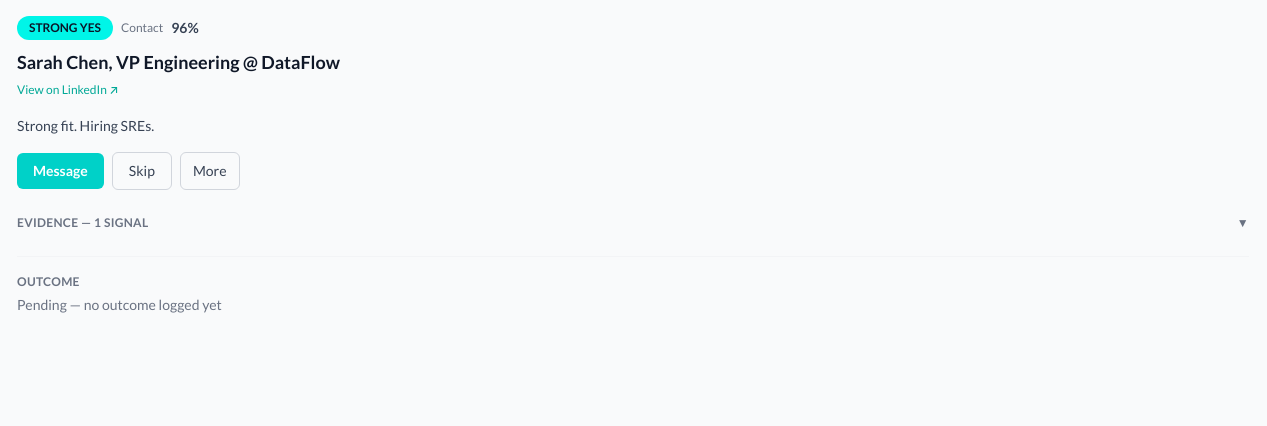
Test: DecisionWorkspacePane › Evidence is collapsed by default and expands on click
Click the button "Evidence — 1 signal ▼": (48, 222) [17, 214, 1249, 232]
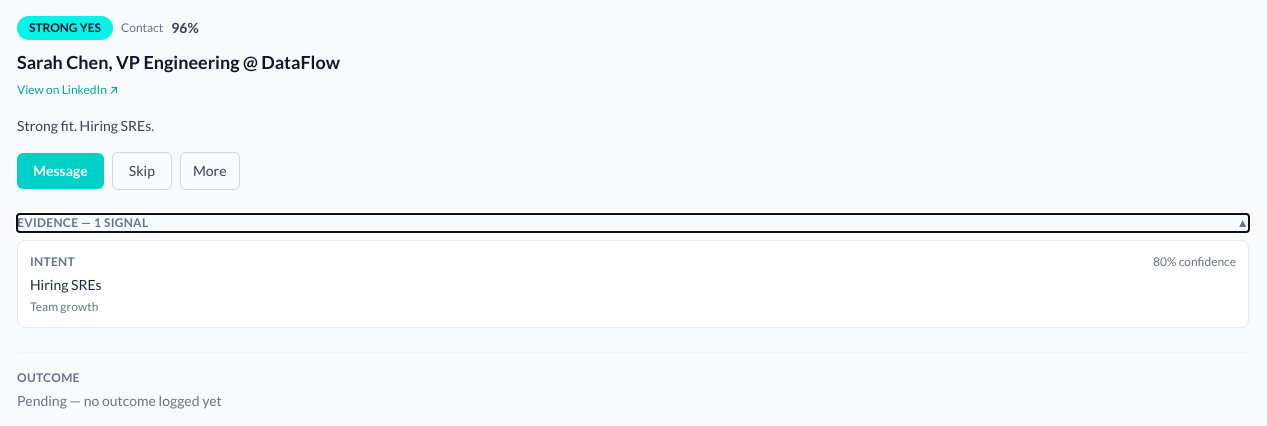
Check: the text "Hiring SREs" is shown, box [30, 276, 102, 293]
